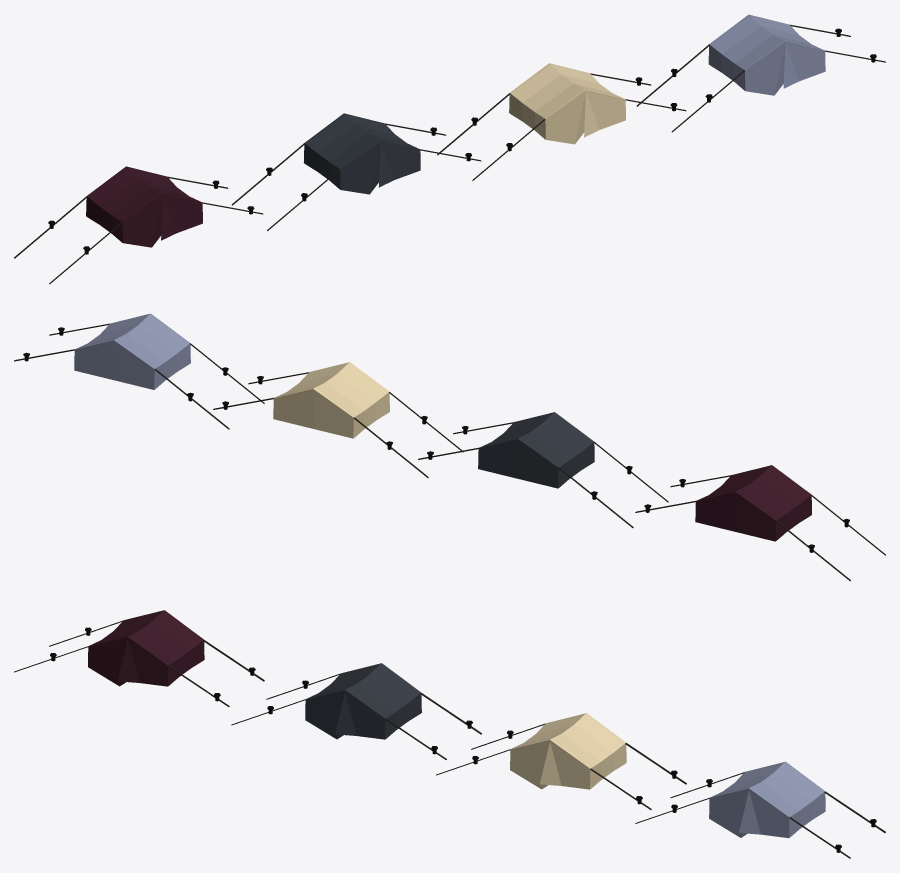
Rendered from tents.fbx.
The picture shows the model from 3 angles, top to bottom: view 1: azimuth 30°, elevation 25°; view 2: azimuth 150°, elevation 25°; view 3: azimuth 330°, elevation 25°; orthographic projection.
Visible parts, largest first — view 1: Cube, Cube.003, Cube.001, Cube.002; view 2: Cube.003, Cube, Cube.002, Cube.001; view 3: Cube.002, Cube, Cube.003, Cube.001.
Part boxes in pixels (<box>): Cube: <box>636,14,885,132</box>; Cube.003: <box>14,166,263,284</box>; Cube.001: <box>437,63,686,180</box>; Cube.002: <box>231,113,481,230</box>; Cube.003: <box>635,465,885,581</box>; Cube: <box>14,313,264,429</box>; Cube.002: <box>418,412,668,527</box>; Cube.001: <box>213,362,463,478</box>; Cube.002: <box>231,663,481,759</box>; Cube: <box>635,761,885,858</box>; Cube.003: <box>14,610,264,706</box>; Cube.001: <box>436,713,686,809</box>.
Size of the model in its own units: 43.73 by 3.15 by 3.77.
